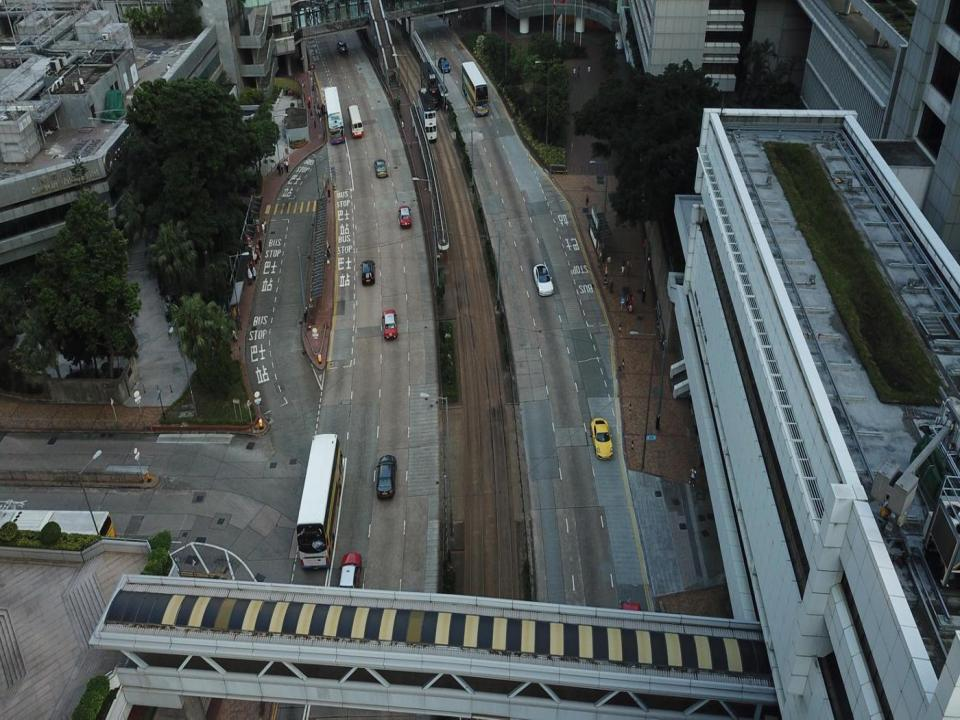bus: (0, 505, 115, 570), (294, 429, 344, 575), (462, 59, 490, 118), (416, 84, 440, 144), (324, 87, 342, 148), (419, 56, 436, 100)
car: (374, 453, 397, 500), (590, 415, 614, 460), (338, 549, 360, 598), (532, 264, 554, 297), (380, 308, 398, 341), (617, 597, 643, 616), (360, 259, 375, 286), (374, 158, 388, 179), (398, 206, 411, 228), (438, 56, 450, 71), (336, 40, 350, 52)
van: (347, 103, 366, 138)
